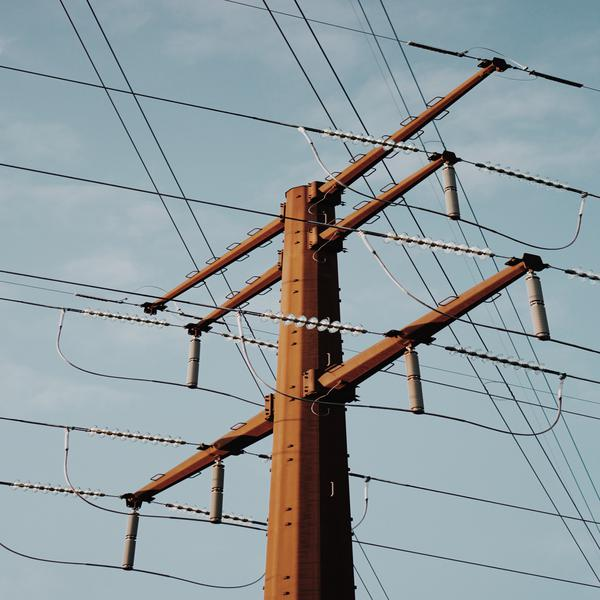utility_pole: (90, 32, 573, 580)
